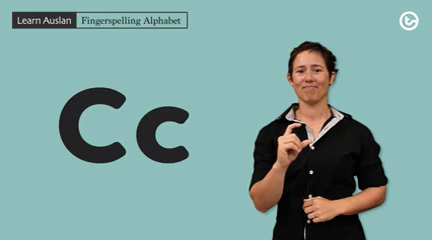C: (273, 117, 319, 166)
